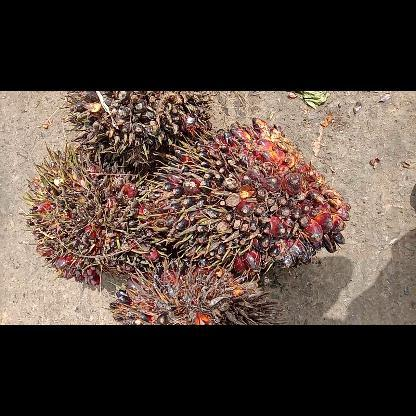TBS abnormal: (151, 119, 349, 285), (27, 146, 150, 274), (62, 91, 214, 175), (107, 266, 271, 324)
